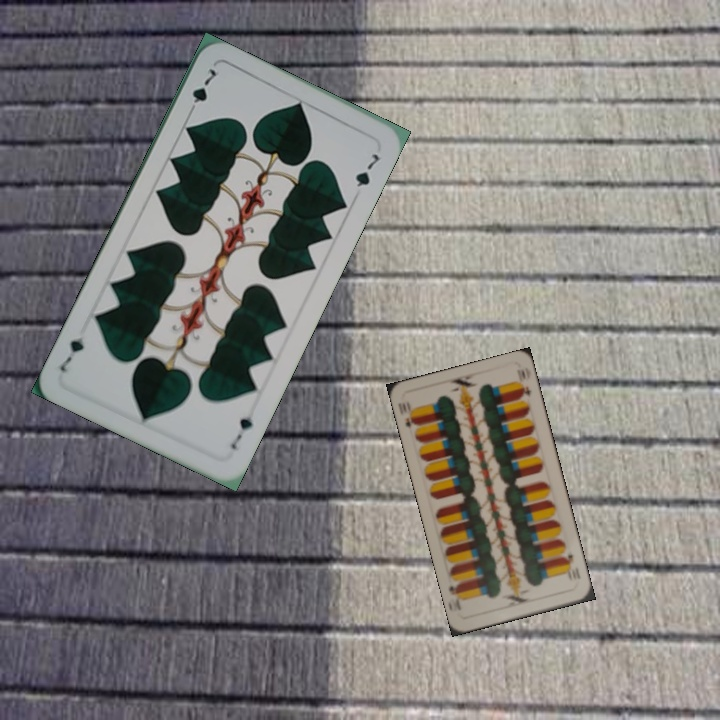E10: (398, 398, 420, 436), (559, 550, 583, 582)
G7: (184, 64, 219, 118), (227, 405, 257, 452)
